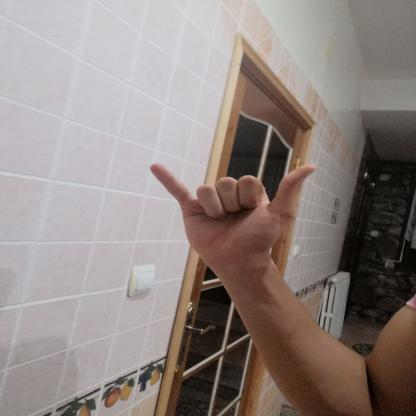YA: (134, 149, 336, 278)
